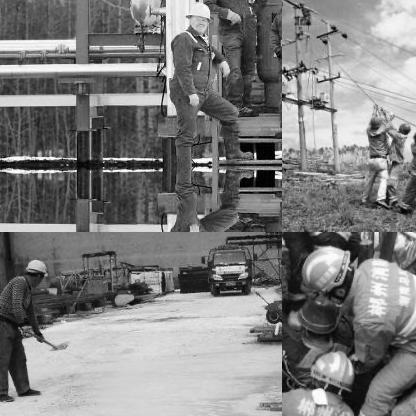Helmet: (304, 346, 358, 400), (299, 246, 349, 294), (294, 294, 338, 342), (183, 0, 213, 32), (22, 256, 48, 284), (392, 119, 410, 138), (366, 113, 382, 130), (412, 126, 415, 144)
